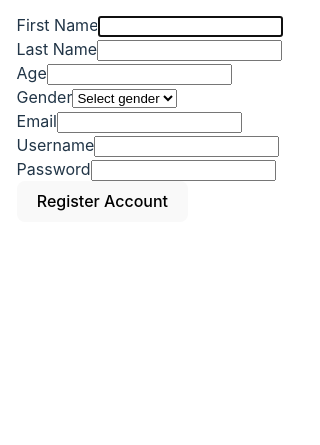
Test: RegistrationForm › shows error messages for invalid inputs
Click the button "Register Account".
click(102, 201)  # box [16,181,188,222]
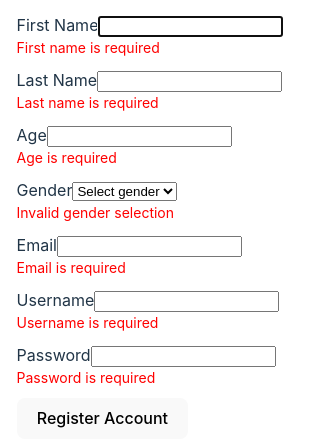
Expected: the text "First name is required" is shown, [16,39,160,56]
Expected: the text "Last name is required" is shown, [16,94,159,111]
Expected: the text "Age is required" is shown, [16,149,117,166]
